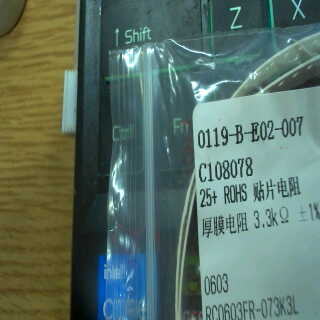3.3kO: (248, 203, 290, 235)
